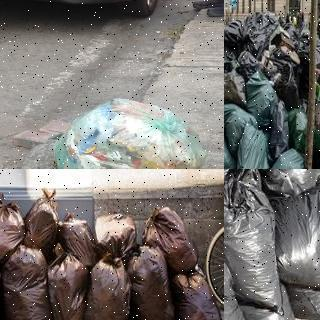Garbage: (46, 92, 209, 169), (224, 173, 287, 316), (267, 193, 320, 291), (0, 243, 56, 320), (125, 244, 181, 320), (143, 202, 200, 274), (224, 243, 274, 320), (46, 248, 94, 320), (82, 252, 132, 320), (169, 268, 224, 320), (21, 183, 61, 247), (229, 116, 276, 169), (242, 69, 282, 127), (224, 99, 262, 151), (91, 212, 136, 254), (0, 189, 23, 265), (264, 144, 313, 169), (289, 106, 314, 150), (224, 64, 247, 105), (224, 131, 242, 169)
